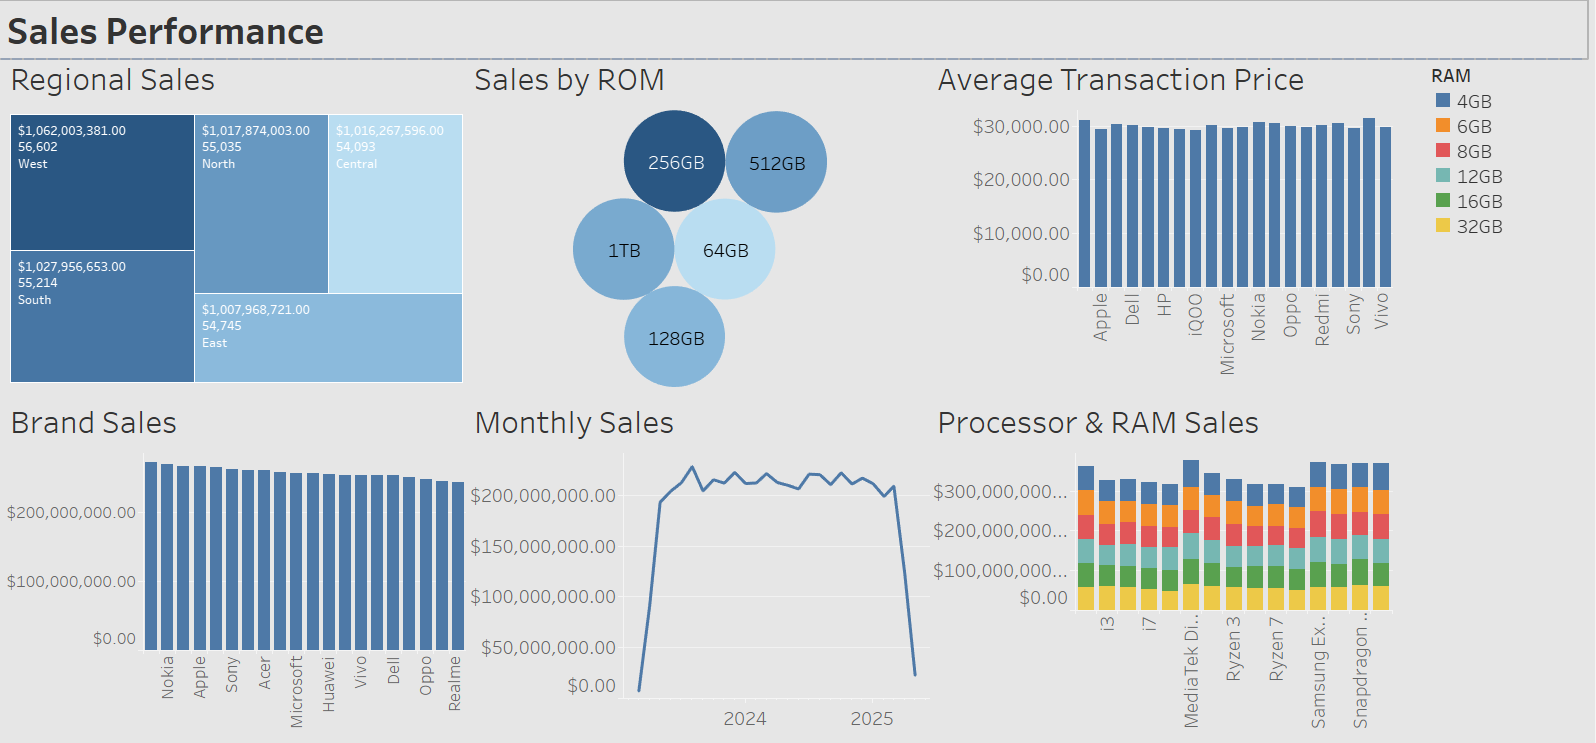

This screenshot's page, from the dashboard's own definition file:
{"tool":"tableau","page":{"name":"Dashboard 1","canvas":[1000,1000],"units":"permille","ordinal":0},"visuals":[{"type":"title","box":[5,10.6,990,75.2]},{"type":"worksheet","title":"Regional Sales","mark":"Square","box":[9.3,79.2,286.8,440.6]},{"type":"worksheet","title":"Sales by ROM","mark":"Circle","box":[298.6,79.2,286.8,440.6]},{"type":"worksheet","title":"Average Transaction Price","mark":"Automatic","rows":["Calculation_850617441828904960"],"cols":["Brand"],"box":[587.3,79.2,286.8,440.6]},{"type":"legend","title":"Processor & RAM Sales","param":"[federated.1k26pxd006dc071f12x660veiniy].[none:RAM:nk]","box":[895.3,85.7,99.8,242.7]},{"type":"worksheet","title":"Brand Sales","mark":"Automatic","rows":["Price"],"cols":["Brand"],"box":[9.3,531.7,286.8,440.6]},{"type":"worksheet","title":"Monthly Sales","mark":"Automatic","rows":["Price"],"cols":["Dispatch Date"],"box":[298.6,531.7,286.8,440.6]},{"type":"worksheet","title":"Processor & RAM Sales","mark":"Automatic","rows":["Price"],"cols":["Processor Specification"],"box":[587.3,531.7,286.8,440.6]}]}

Visuals, with their boxes on the dashboard's canvas, which has no fixed pixel size, in thousandths of its width and height (x1, y1, x2, y2). These are canvas units, not pixel positions in the 1596x743 screenshot, which may show the page scaled, cropped or inside an application window:
title: locate(5, 11, 995, 86)
"Regional Sales" worksheet (Square marks): locate(9, 79, 296, 520)
"Sales by ROM" worksheet (Circle marks): locate(299, 79, 585, 520)
"Average Transaction Price" worksheet: locate(587, 79, 874, 520)
"Processor & RAM Sales" legend: locate(895, 86, 995, 328)
"Brand Sales" worksheet: locate(9, 532, 296, 972)
"Monthly Sales" worksheet: locate(299, 532, 585, 972)
"Processor & RAM Sales" worksheet: locate(587, 532, 874, 972)
